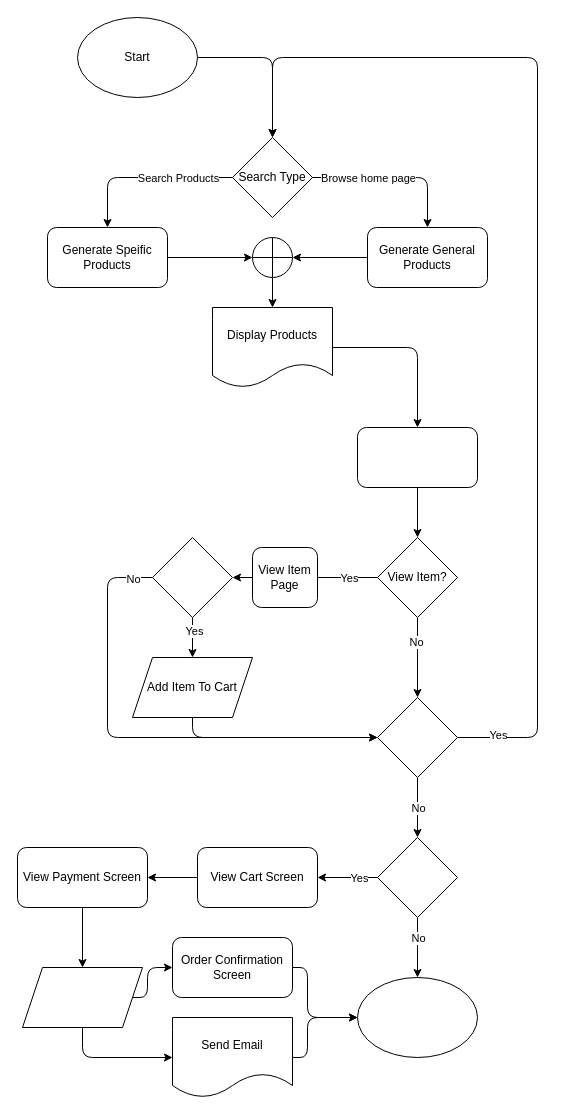
Some shapes in this 563 by 1115 pixel diagram are drawn without their labels. Here are the shapes that lost their labels. From the top down, the box of each, then its label:
(356, 426, 478, 488): User Views Product
(152, 536, 232, 618): Add to cart?
(376, 696, 458, 778): Continue Shopping?
(376, 836, 458, 918): Checkout?
(22, 966, 142, 1028): Enter Payment Info
(356, 976, 478, 1058): Exit Website
